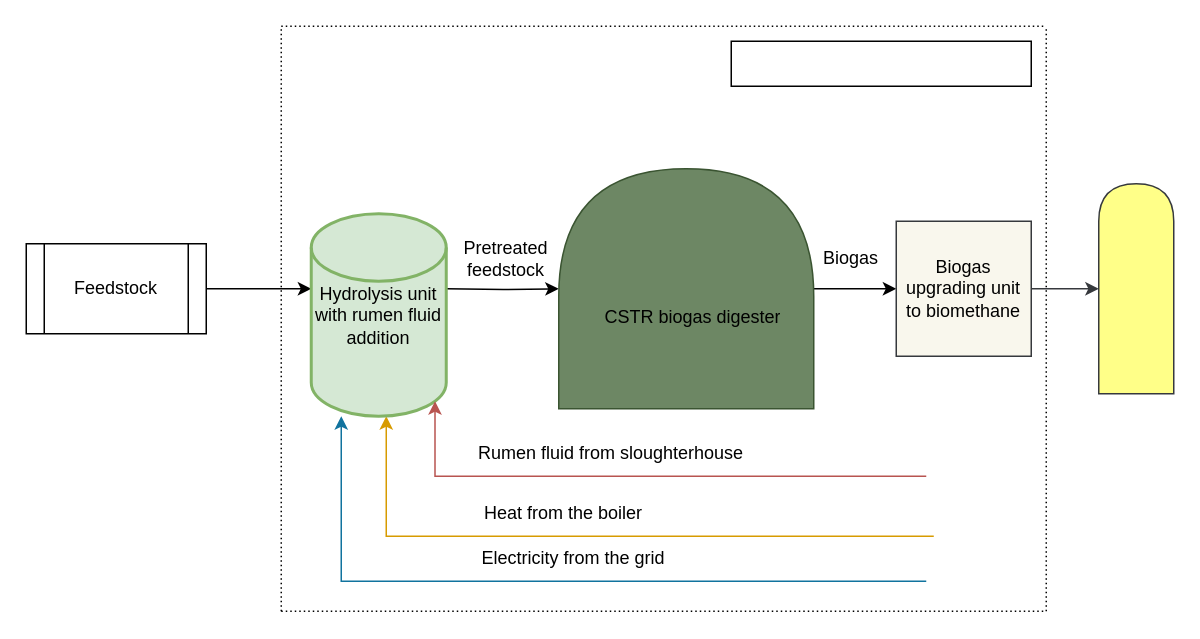
This 1200x639 diagram has some shape labels left out. Each missing label, with the centre of its shape:
"Biomethane" belongs at point 1135,288.
"Life cycle assesment boundaries" belongs at point 880,63.
